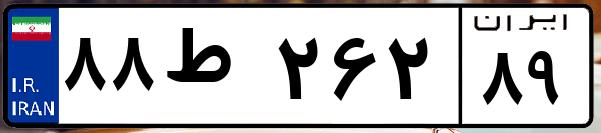2: (270, 28, 330, 110), (385, 28, 445, 110)
6: (330, 28, 385, 110)
8: (57, 26, 110, 100), (475, 38, 525, 113), (110, 28, 158, 98)
9: (525, 38, 570, 115)
ط: (158, 20, 270, 120)
